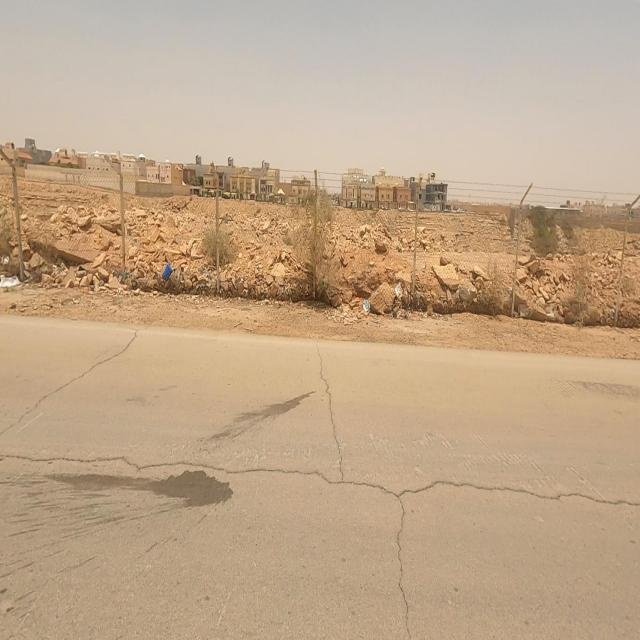debris: (134, 216, 197, 332), (372, 239, 420, 357), (332, 260, 394, 348), (0, 220, 40, 320)
